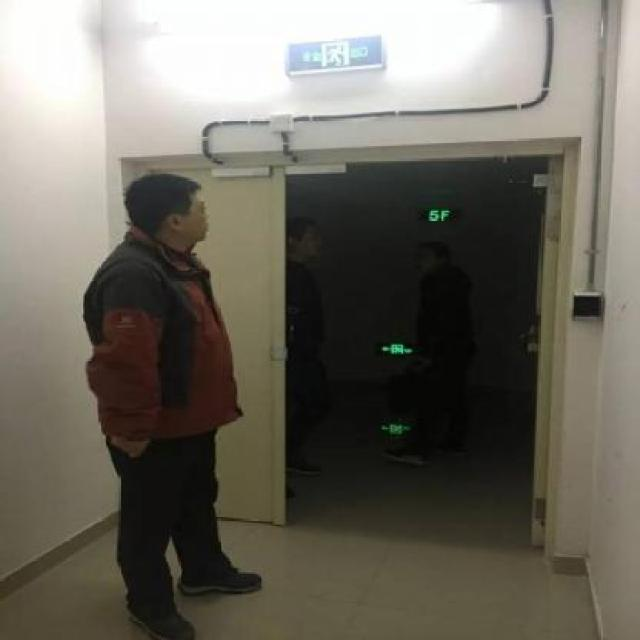exit_sign: (268, 36, 392, 78)
